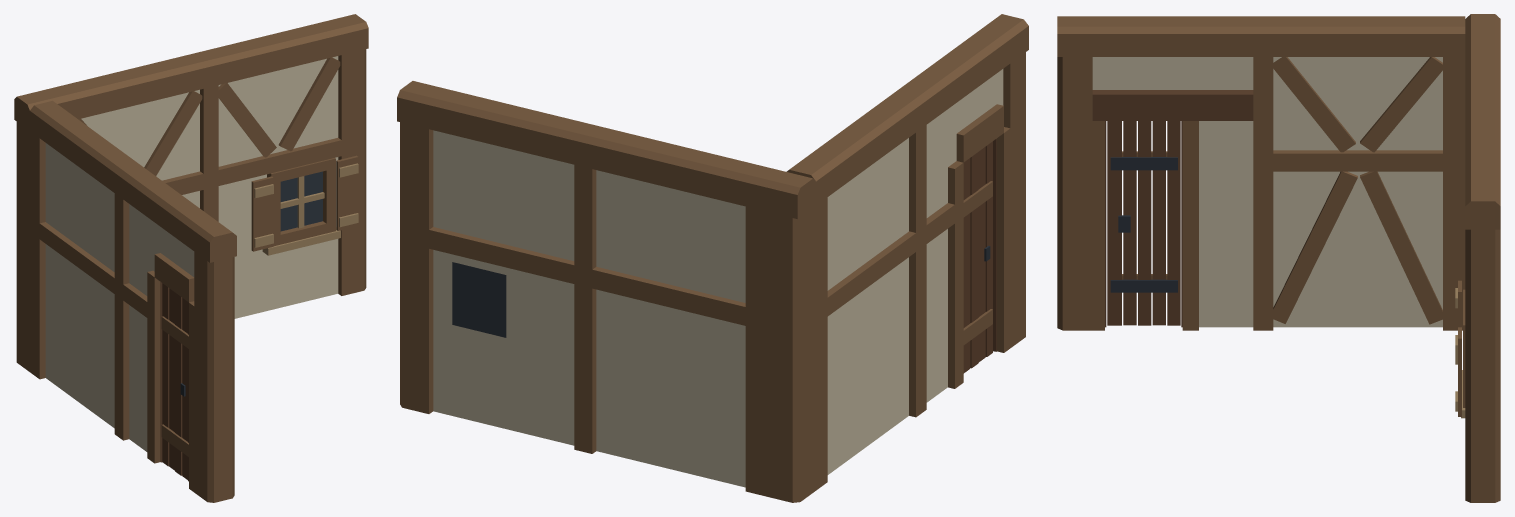
Rendered from stage0_wall_corner.glb.
The picture shows the model from 3 angles, left to right: view 1: azimuth 30°, elevation 25°; view 2: azimuth 150°, elevation 25°; view 3: azimuth 270°, elevation 25°; orthographic projection. The views are drawn at different scales.
Parts seen in each view (by area): view 1: wall-shell, door-leaf, shutter-left-leaf, shutter-right-leaf; view 2: wall-shell, door-leaf; view 3: wall-shell, door-leaf.
Boxes of the visible parts, bbox=[...] form: wall-shell: bbox=[14, 14, 368, 502]; door-leaf: bbox=[161, 283, 188, 481]; shutter-left-leaf: bbox=[251, 176, 273, 251]; shutter-right-leaf: bbox=[336, 155, 358, 230]; wall-shell: bbox=[397, 14, 1028, 502]; door-leaf: bbox=[963, 141, 992, 373]; wall-shell: bbox=[1057, 14, 1500, 502]; door-leaf: bbox=[1107, 121, 1180, 325].
Bounding box in the file's own units: 4 × 3 × 4.
